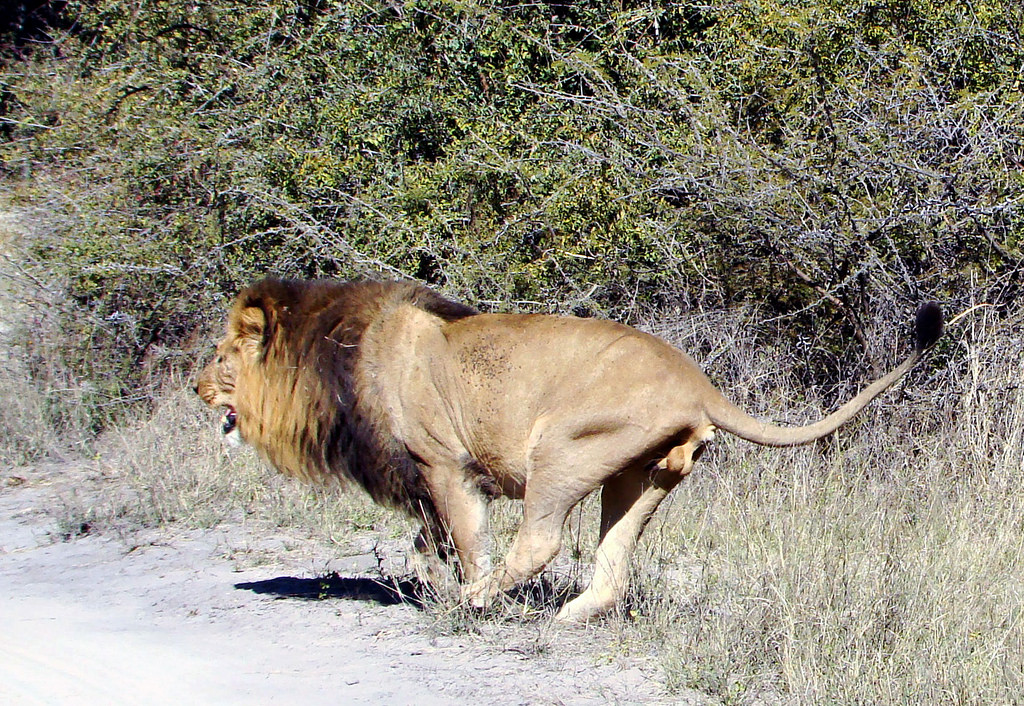lion: (185, 272, 947, 633)
